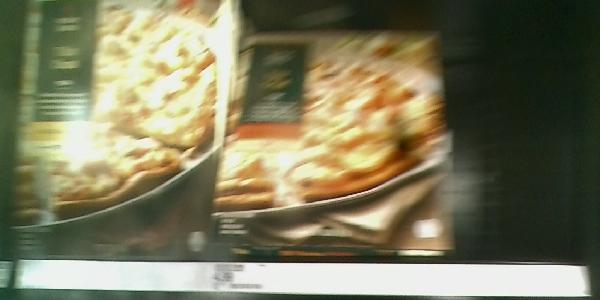pizza1: (12, 1, 223, 257), (214, 31, 455, 253)
